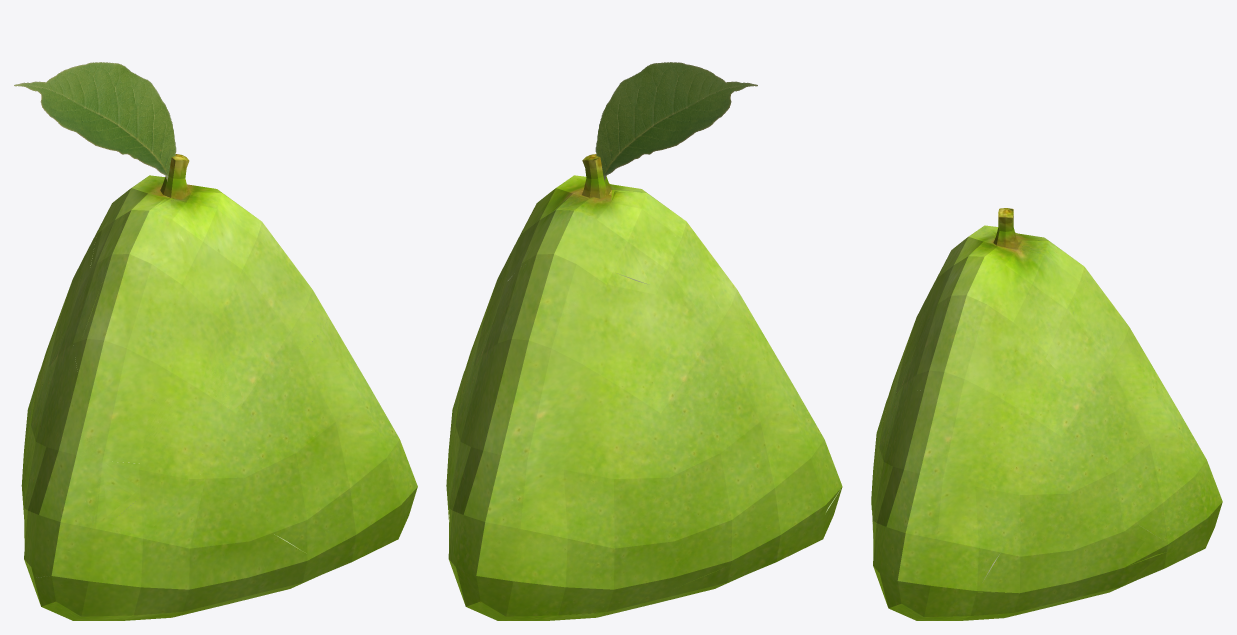
Rendered from TrApple.fbx.
The picture shows the model from 3 angles, left to right: view 1: azimuth 30°, elevation 25°; view 2: azimuth 150°, elevation 25°; view 3: azimuth 270°, elevation 25°; orthographic projection. The views are drawn at different scales.
Parts seen in each view (by area): view 1: TrApple, TrApple_cell, TrApple_cell.002, TrApple_cell.001, TrApple_leaf, TrApple_cell.003; view 2: TrApple, TrApple_cell.003, TrApple_leaf, TrApple_cell; view 3: TrApple, TrApple_cell.001, TrApple_cell.003, TrApple_cell.002, TrApple_cell.
Boxes of the visible parts, bbox=[...] form: TrApple: bbox=[22, 154, 417, 620]; TrApple_cell: bbox=[82, 154, 324, 450]; TrApple_cell.002: bbox=[34, 466, 317, 620]; TrApple_cell.001: bbox=[198, 318, 408, 561]; TrApple_leaf: bbox=[14, 62, 176, 181]; TrApple_cell.003: bbox=[21, 216, 139, 553]; TrApple: bbox=[446, 154, 842, 620]; TrApple_cell.003: bbox=[448, 262, 784, 619]; TrApple_leaf: bbox=[595, 62, 757, 181]; TrApple_cell: bbox=[507, 155, 723, 314]; TrApple: bbox=[871, 208, 1222, 620]; TrApple_cell.001: bbox=[872, 397, 972, 619]; TrApple_cell.003: bbox=[1045, 273, 1222, 547]; TrApple_cell.002: bbox=[871, 423, 1166, 620]; TrApple_cell: bbox=[891, 208, 1082, 401].
Bounding box in the file's own units: 9.67 × 13.8 × 8.97.
